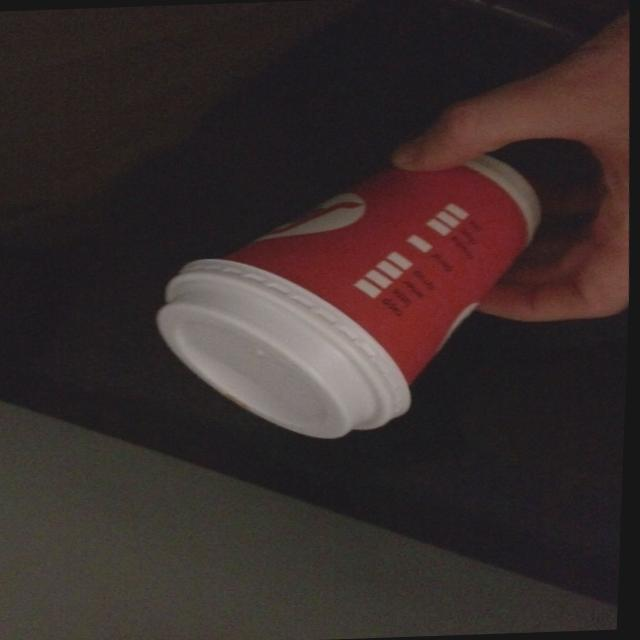Cup: (142, 117, 569, 450)
